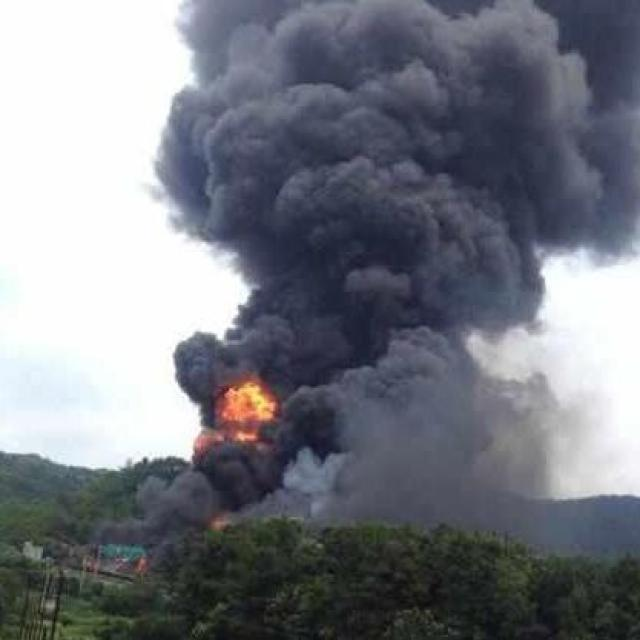Fire: (194, 381, 278, 453)
Smoke: (87, 1, 640, 548)
